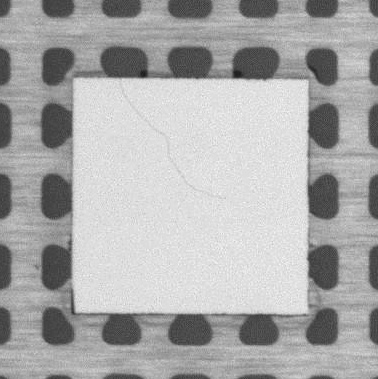DIE_CRACK: (119, 78, 229, 201)
